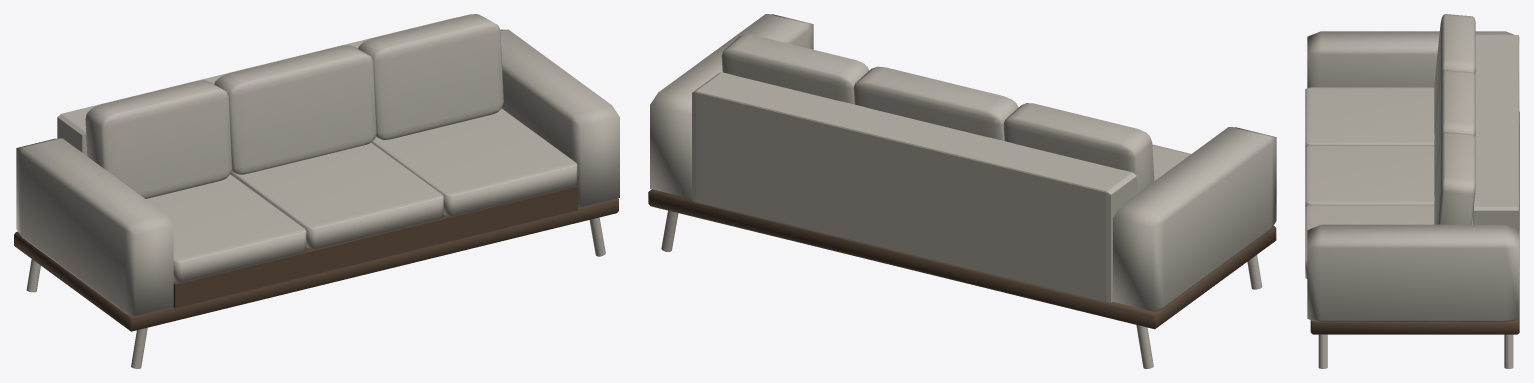
File: sofa5.obj
3 renders of one model, left to right at view 1: azimuth 30°, elevation 25°; view 2: azimuth 150°, elevation 25°; view 3: azimuth 270°, elevation 25°, orthographic. The views are drawn at different scales.
Parts seen in each view (by area): view 1: sofa5; view 2: sofa5; view 3: sofa5.
Boxes of the visible parts, x1,y1,x2,y2 form: sofa5: [14, 14, 619, 368]; sofa5: [648, 14, 1276, 368]; sofa5: [1305, 14, 1519, 368].
Size of the model in its own units: 2 by 0.7519 by 0.8519.
